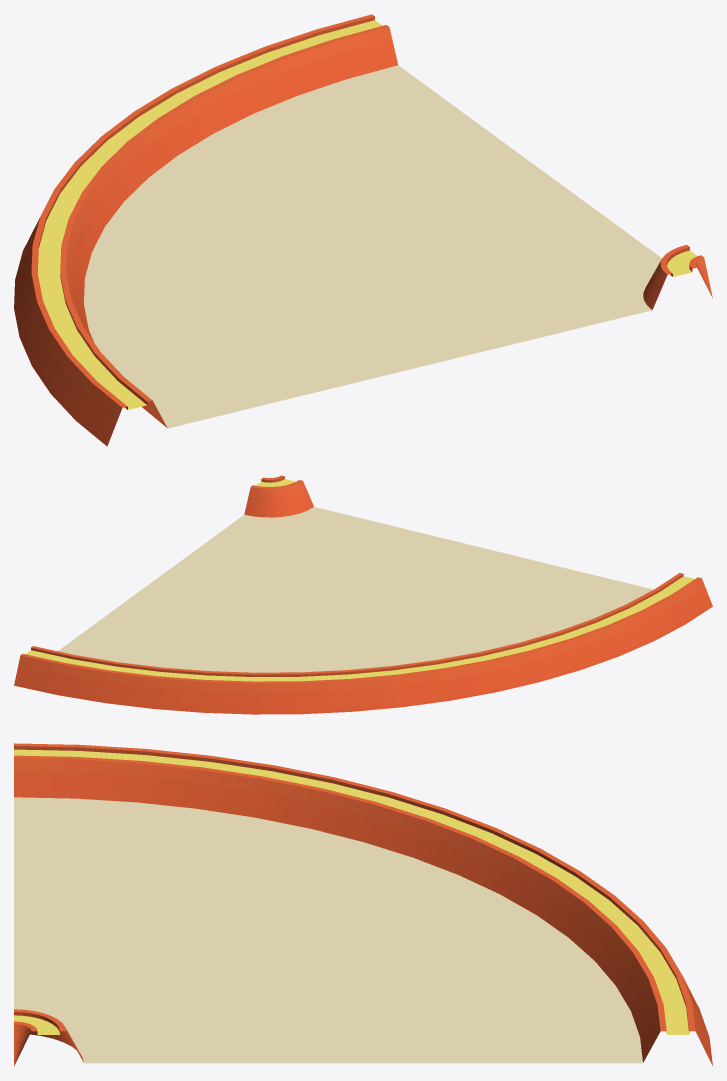
Rendered from sm_path_futuristic_smallcurve.fbx.
The picture shows the model from 3 angles, top to bottom: view 1: azimuth 30°, elevation 25°; view 2: azimuth 150°, elevation 25°; view 3: azimuth 270°, elevation 25°; orthographic projection. The views are drawn at different scales.
Parts seen in each view (by area): view 1: sm_path_futuristic_smallcurve; view 2: sm_path_futuristic_smallcurve; view 3: sm_path_futuristic_smallcurve.
Part boxes in pixels (x1,y1,x2,y2): sm_path_futuristic_smallcurve: (14,14,712,446); sm_path_futuristic_smallcurve: (14,475,712,714); sm_path_futuristic_smallcurve: (14,743,712,1065).
Size of the model in its own units: 300 by 300 by 16.6.
